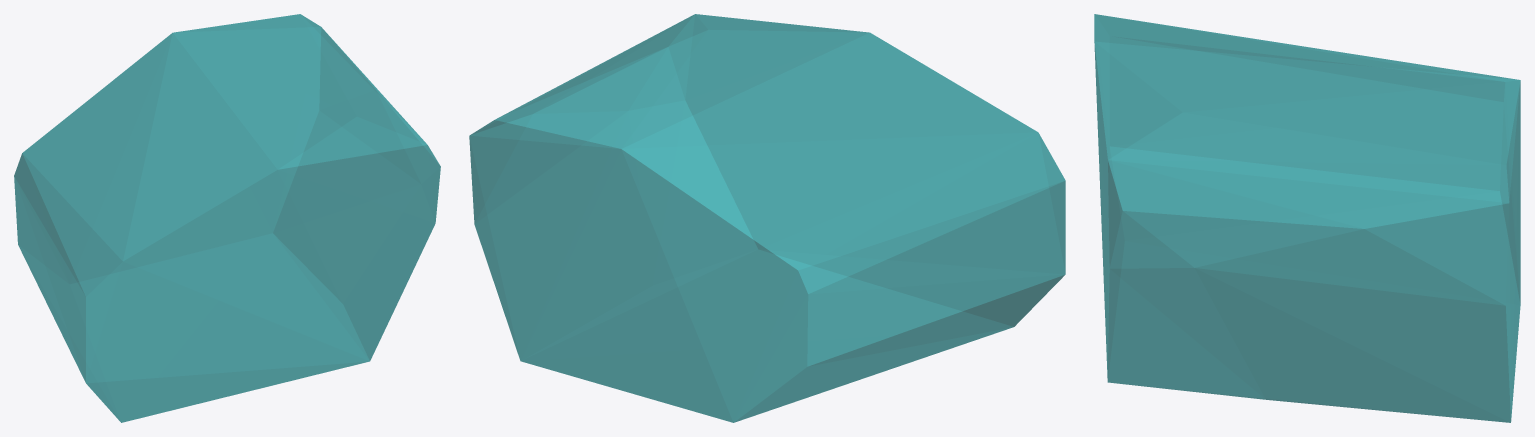
3 views of the same model, side by side, from view 1: azimuth 30°, elevation 25°; view 2: azimuth 150°, elevation 25°; view 3: azimuth 270°, elevation 25° (orthographic). The views are drawn at different scales.
Visible parts, largest first — view 1: Shape_IndexedFaceSet.026_Shape_IndexedFaceSet.18002; view 2: Shape_IndexedFaceSet.026_Shape_IndexedFaceSet.18002; view 3: Shape_IndexedFaceSet.026_Shape_IndexedFaceSet.18002.
Part boxes in pixels (x1=…): Shape_IndexedFaceSet.026_Shape_IndexedFaceSet.18002: x1=14, y1=14, x2=440, y2=422; Shape_IndexedFaceSet.026_Shape_IndexedFaceSet.18002: x1=469, y1=14, x2=1065, y2=422; Shape_IndexedFaceSet.026_Shape_IndexedFaceSet.18002: x1=1094, y1=14, x2=1520, y2=422.
Size of the model in its own units: 0.2885 by 0.1596 by 0.2128.
